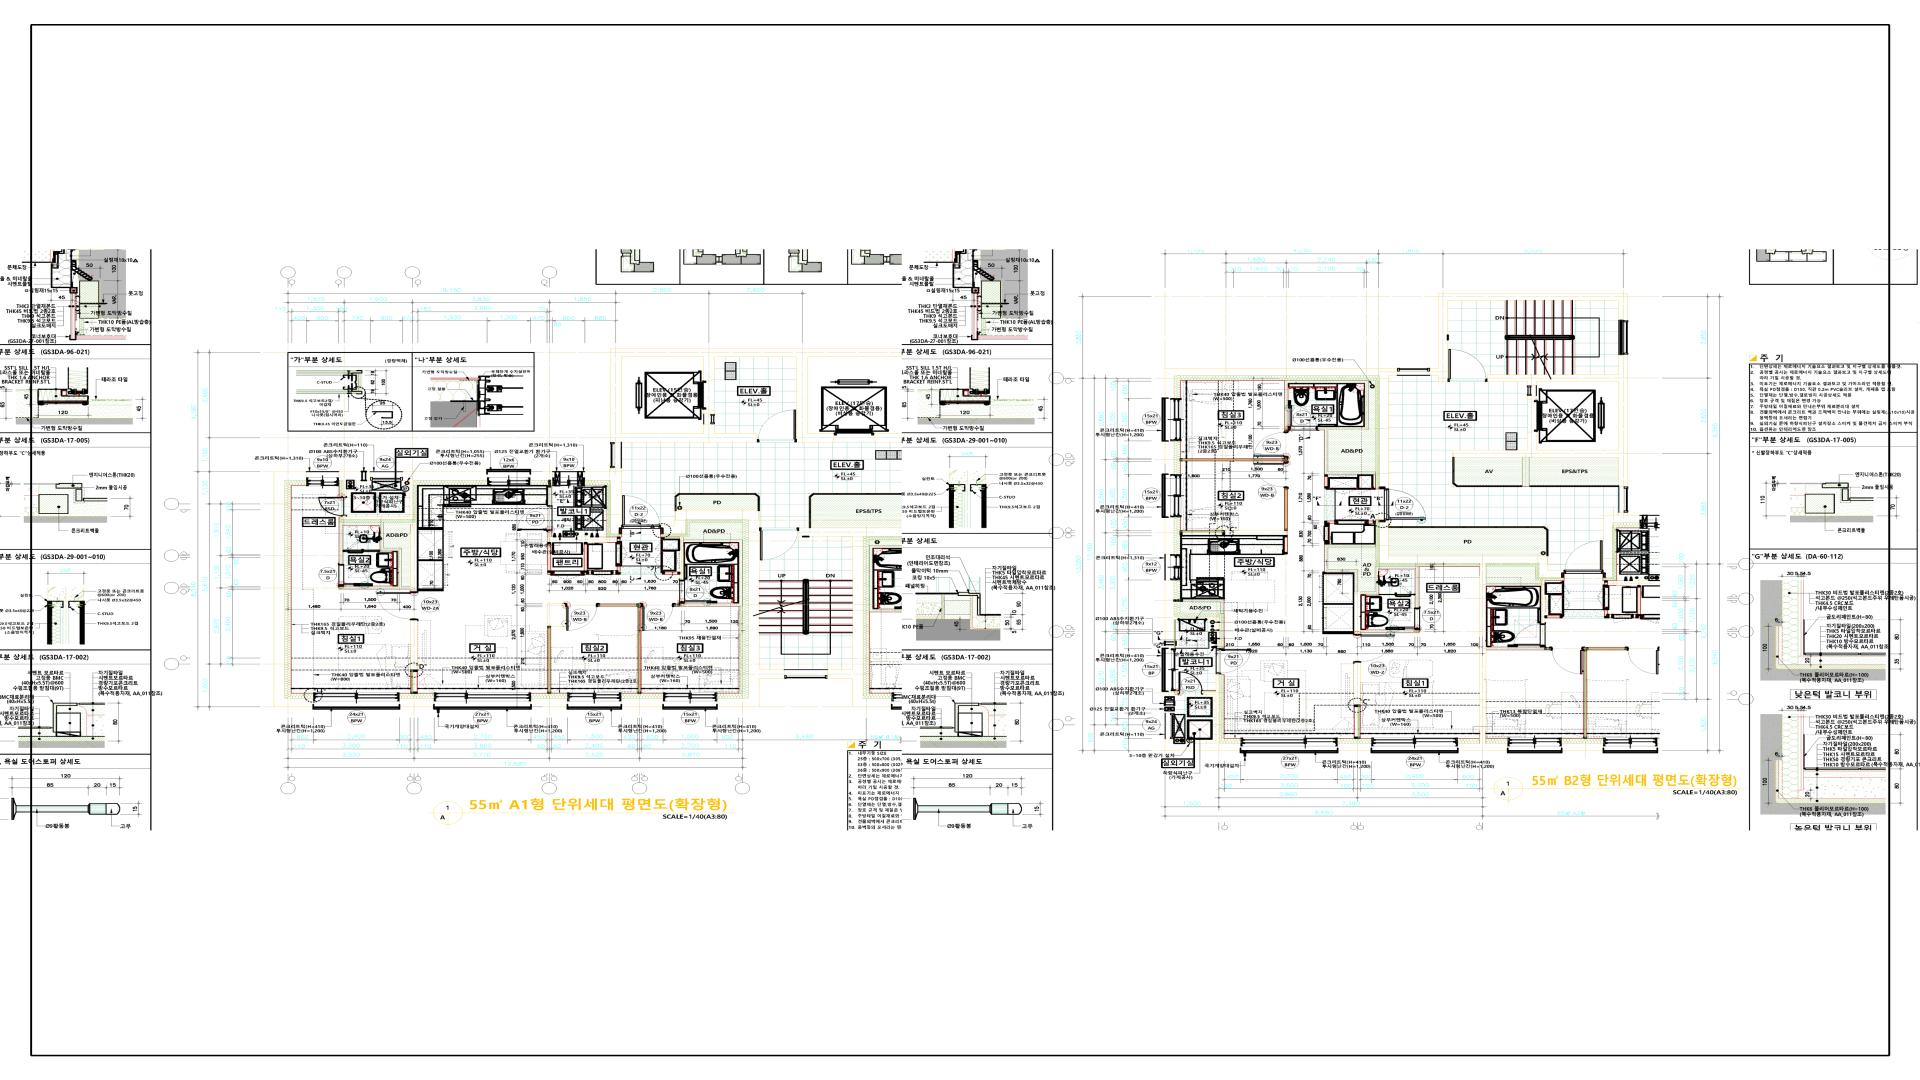door: (618, 495, 665, 534), (1378, 487, 1425, 522), (757, 409, 796, 443), (1448, 349, 1487, 382), (760, 527, 799, 560), (376, 591, 418, 621), (1353, 634, 1395, 662), (641, 603, 676, 632), (1254, 431, 1288, 459), (1253, 462, 1288, 488), (517, 505, 553, 531), (1216, 649, 1253, 674), (564, 603, 597, 630), (1386, 607, 1420, 630), (679, 580, 712, 604), (1288, 405, 1317, 431), (338, 564, 369, 587), (318, 496, 347, 517), (1178, 671, 1203, 695), (343, 537, 368, 553), (551, 571, 584, 580), (616, 542, 628, 567), (591, 570, 613, 580), (1378, 592, 1415, 597), (1319, 526, 1329, 541), (1527, 385, 1536, 396)
wall: (1379, 521, 1564, 750), (1166, 368, 1396, 488), (611, 348, 902, 442), (661, 512, 785, 707), (1453, 355, 1629, 487), (1431, 293, 1629, 382), (799, 527, 866, 707), (274, 472, 313, 707), (1284, 380, 1375, 475), (343, 472, 487, 520), (1164, 674, 1240, 750), (339, 522, 410, 589), (680, 539, 742, 607), (597, 604, 641, 694), (1164, 580, 1220, 649), (1361, 566, 1419, 608), (1325, 545, 1375, 592), (585, 468, 621, 534), (410, 621, 418, 694), (1180, 600, 1224, 613), (410, 525, 417, 592), (547, 537, 617, 542), (1225, 530, 1288, 535), (621, 699, 663, 707), (1164, 518, 1174, 554), (1180, 459, 1287, 462), (531, 699, 567, 707), (1354, 662, 1361, 704), (1354, 592, 1361, 634), (1164, 692, 1178, 713), (400, 699, 434, 707), (547, 626, 551, 694), (1166, 442, 1174, 473), (339, 472, 369, 480), (1180, 530, 1225, 535), (873, 434, 902, 442), (1354, 704, 1361, 738), (584, 542, 591, 575), (1338, 744, 1370, 750), (1523, 458, 1530, 487), (679, 537, 683, 580), (1284, 488, 1288, 530), (531, 472, 553, 480), (1361, 630, 1419, 633), (547, 542, 551, 575), (1284, 535, 1288, 554), (613, 567, 621, 575), (1324, 521, 1335, 526), (1324, 475, 1328, 488), (549, 488, 551, 505), (665, 572, 680, 575), (368, 550, 380, 553), (547, 531, 551, 537), (1369, 521, 1375, 524), (617, 537, 621, 541)
window: (434, 692, 531, 709), (1240, 737, 1338, 753), (314, 692, 400, 709), (1370, 737, 1458, 753), (663, 692, 717, 709), (567, 692, 621, 709), (1162, 397, 1182, 442), (1162, 473, 1182, 518), (487, 469, 531, 487), (1162, 647, 1176, 692), (306, 471, 339, 487), (553, 471, 585, 487), (1164, 554, 1180, 580), (785, 670, 828, 679), (1618, 319, 1629, 355), (369, 471, 404, 481), (611, 442, 622, 468), (1164, 713, 1175, 740), (1396, 368, 1431, 376), (703, 414, 715, 425)
